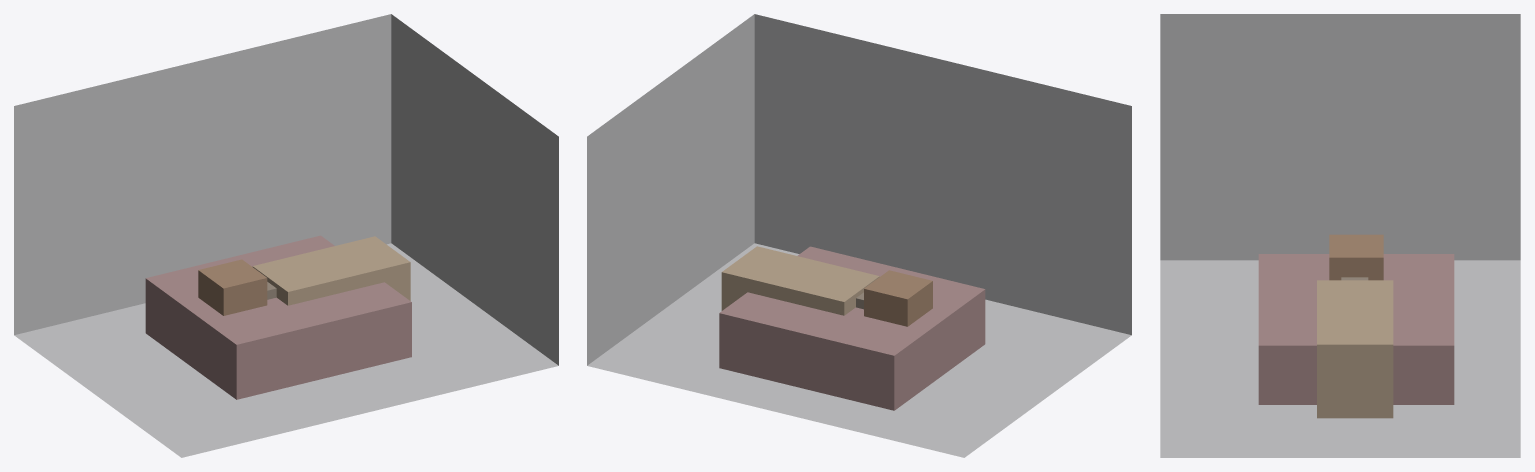
The model's file is current_layout.glb.
The picture shows the model from 3 angles, left to right: view 1: azimuth 30°, elevation 25°; view 2: azimuth 150°, elevation 25°; view 3: azimuth 270°, elevation 25°; orthographic projection. The views are drawn at different scales.
Visible parts, largest first — view 1: room, bed, desk, chair; view 2: room, bed, desk, chair; view 3: room, bed, desk, chair.
Part boxes in pixels (left/top/right/bottom): room: left=14, top=14, right=558, bottom=457; bed: left=145, top=235, right=411, bottom=399; desk: left=252, top=236, right=410, bottom=305; chair: left=198, top=259, right=267, bottom=315; room: left=587, top=14, right=1131, bottom=457; bed: left=719, top=246, right=985, bottom=410; desk: left=721, top=246, right=879, bottom=315; chair: left=864, top=270, right=932, bottom=326; room: left=1160, top=14, right=1520, bottom=457; bed: left=1258, top=254, right=1454, bottom=404; desk: left=1317, top=280, right=1393, bottom=418; chair: left=1329, top=234, right=1383, bottom=280.
Bounding box in the file's own units: 4.31 × 2.5 × 3.31.
